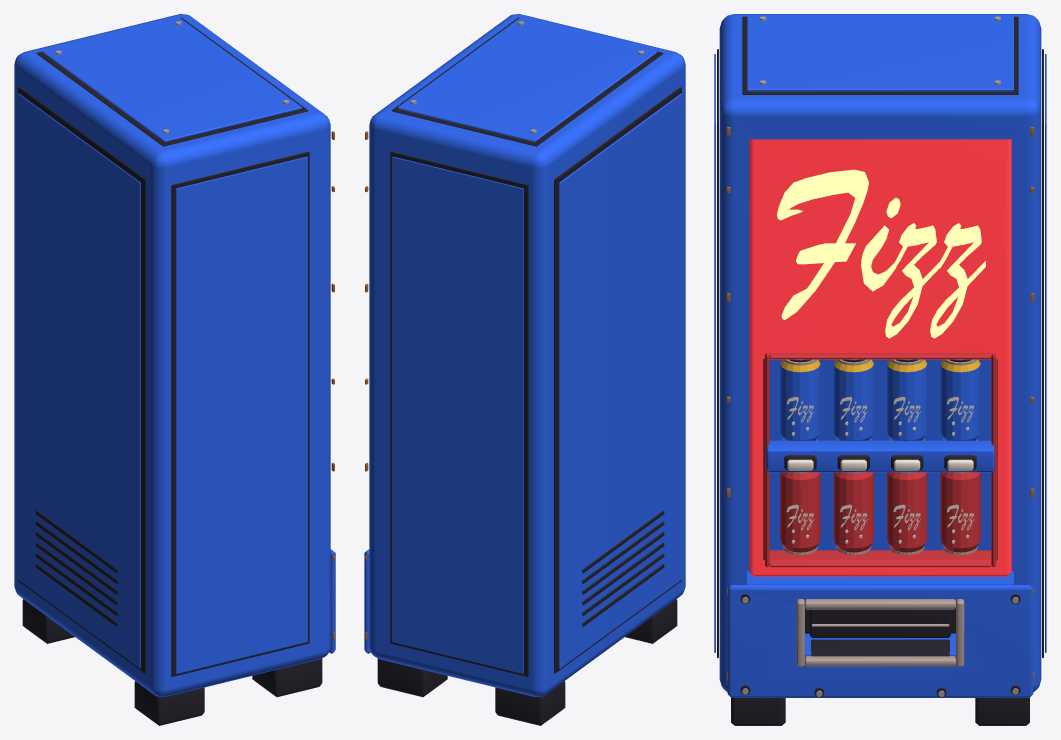
File: prop.vending-machine.glb
The picture shows the model from 3 angles, left to right: view 1: azimuth 30°, elevation 25°; view 2: azimuth 150°, elevation 25°; view 3: azimuth 270°, elevation 25°; orthographic projection. The views are drawn at different scales.
Parts seen in each view (by area): view 1: body, door_front; view 2: body, door_front; view 3: door_front, body.
Part boxes in pixels (<box>): body: <box>14,14,334,725</box>; door_front: <box>329,549,335,653</box>; body: <box>365,14,685,725</box>; door_front: <box>364,549,370,653</box>; door_front: <box>727,139,1033,697</box>; body: <box>714,14,1046,725</box>.
Size of the model in its own units: 0.7845 by 2.17 by 1.03.
